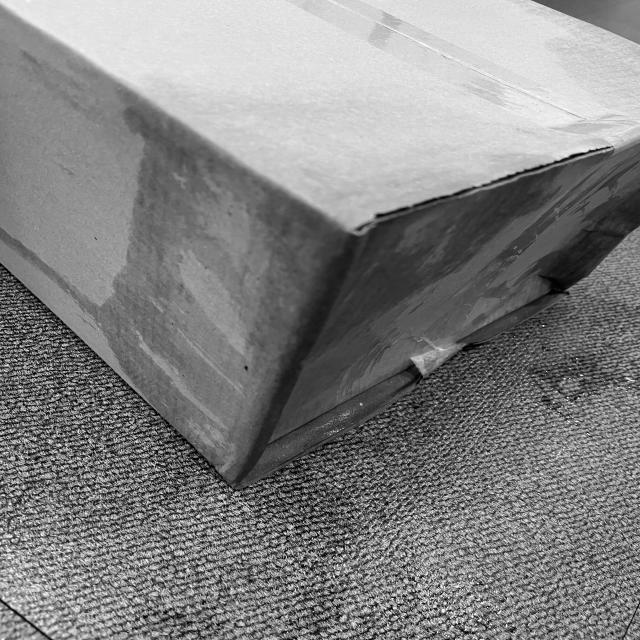wet: (107, 92, 590, 490)
